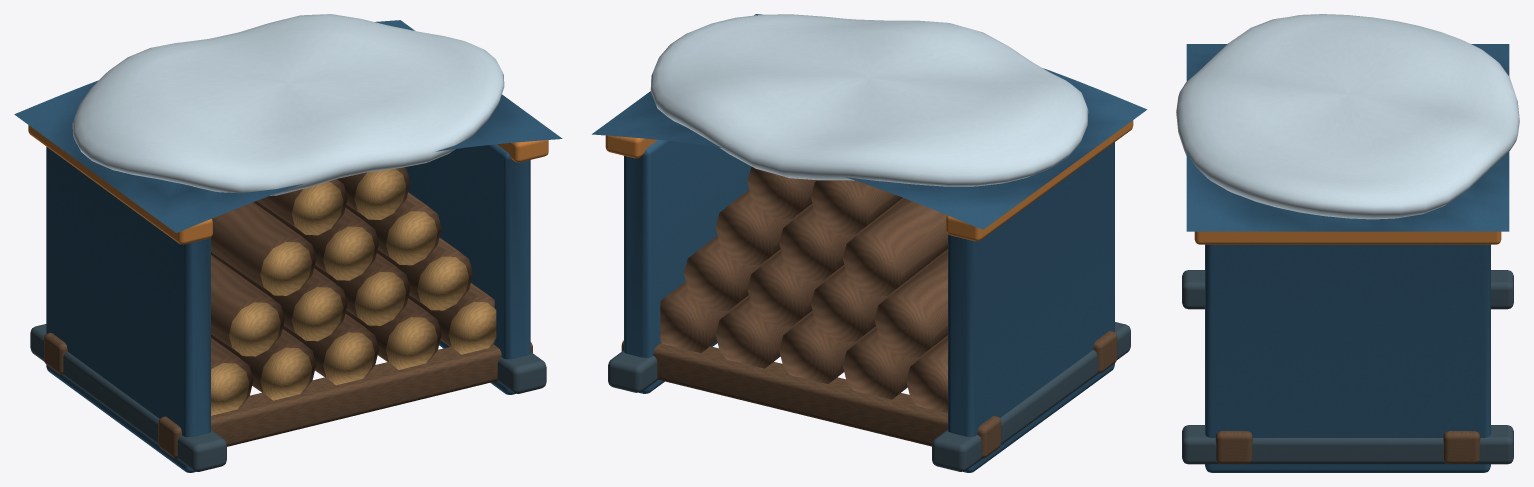
The model's file is storage.glb.
3 views of the same model, side by side, from view 1: azimuth 30°, elevation 25°; view 2: azimuth 150°, elevation 25°; view 3: azimuth 270°, elevation 25° (orthographic).
Parts seen in each view (by area): view 1: storage; view 2: storage; view 3: storage.
Boxes of the visible parts, box(x1,y1,x2,y2) form: storage: box(14, 14, 562, 472); storage: box(592, 14, 1147, 472); storage: box(1176, 14, 1519, 472).
Size of the model in its own units: 1.96 by 1.43 by 1.48.
Materials: 7 (7 with a texture image).
